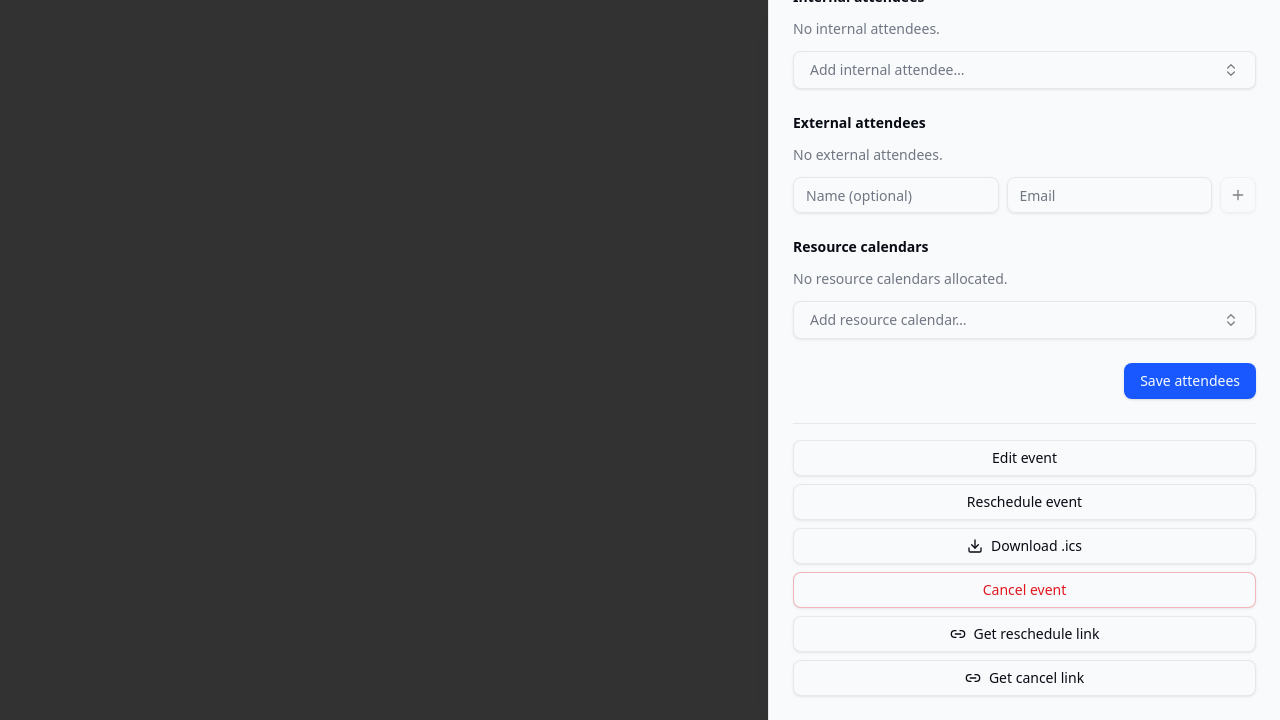
Test case: EventAttendeesSheet — cancel flow › recurring event › opens the ScopePromptDialog (not AlertDialog) when "Cancel event" is clicked
(page scrolled)
Click the button "Cancel event".
click(1024, 590)  # box [793,572,1256,608]
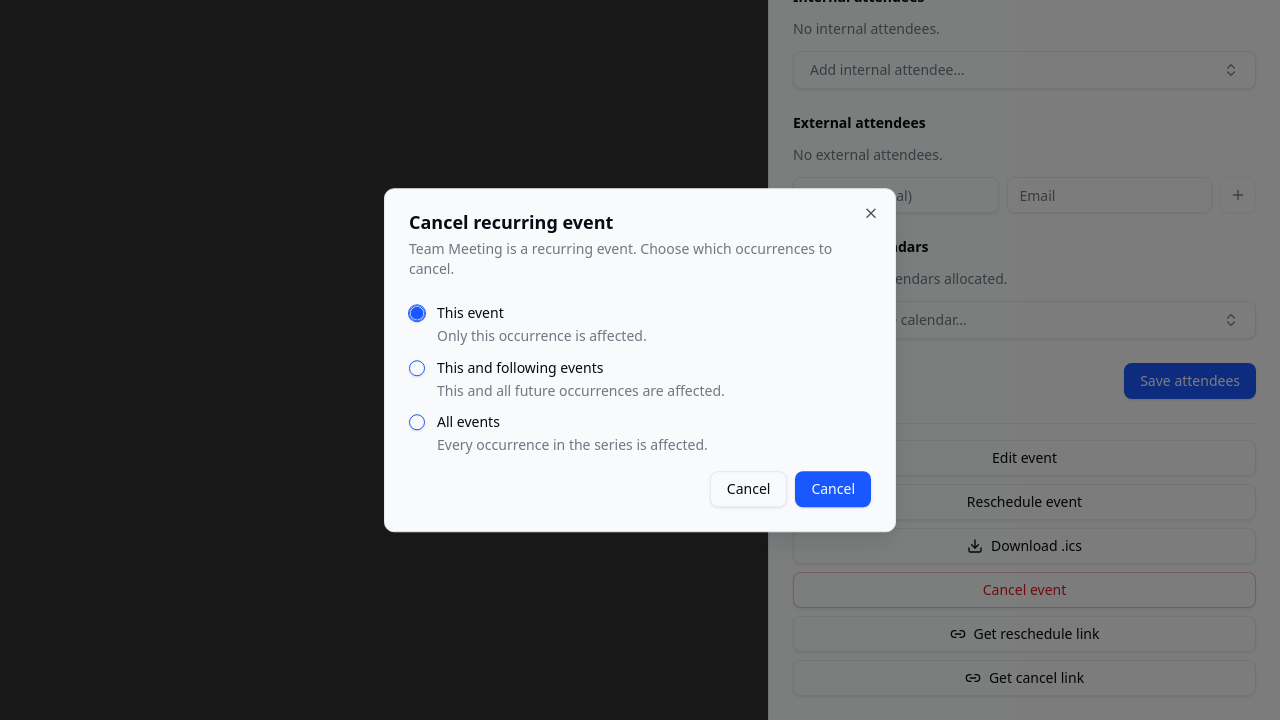
Now the text "This event" is shown, box [437,303,504,322]
Now the text "This and following events" is shown, box [437,358,603,377]
Now the text "All events" is shown, box [437,412,500,431]
